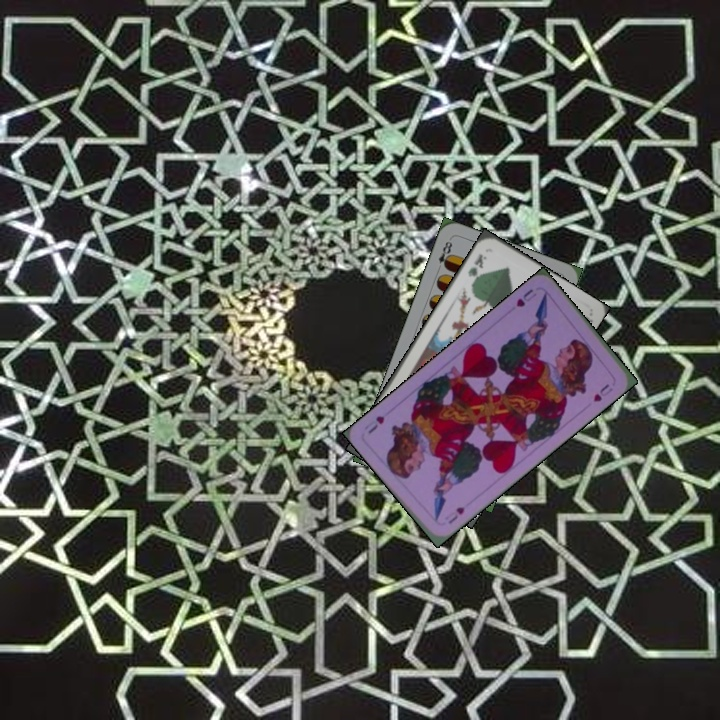E8: (433, 235, 455, 274)
GK: (464, 249, 489, 287)
HU: (512, 285, 539, 310), (444, 502, 468, 526)
